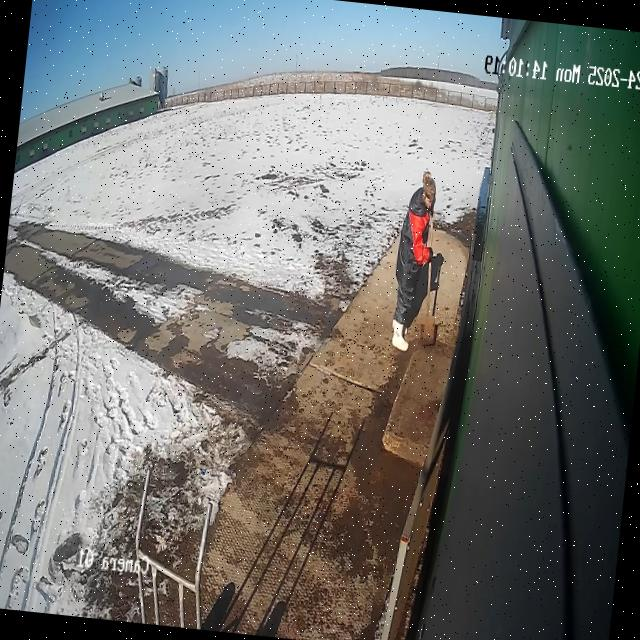Red uniform: (384, 167, 444, 356)
